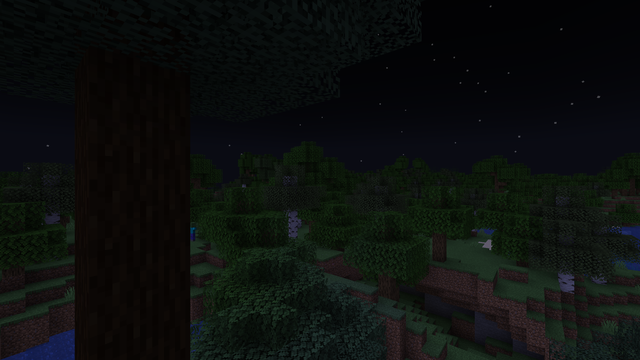zombies: (190, 222, 196, 241)
